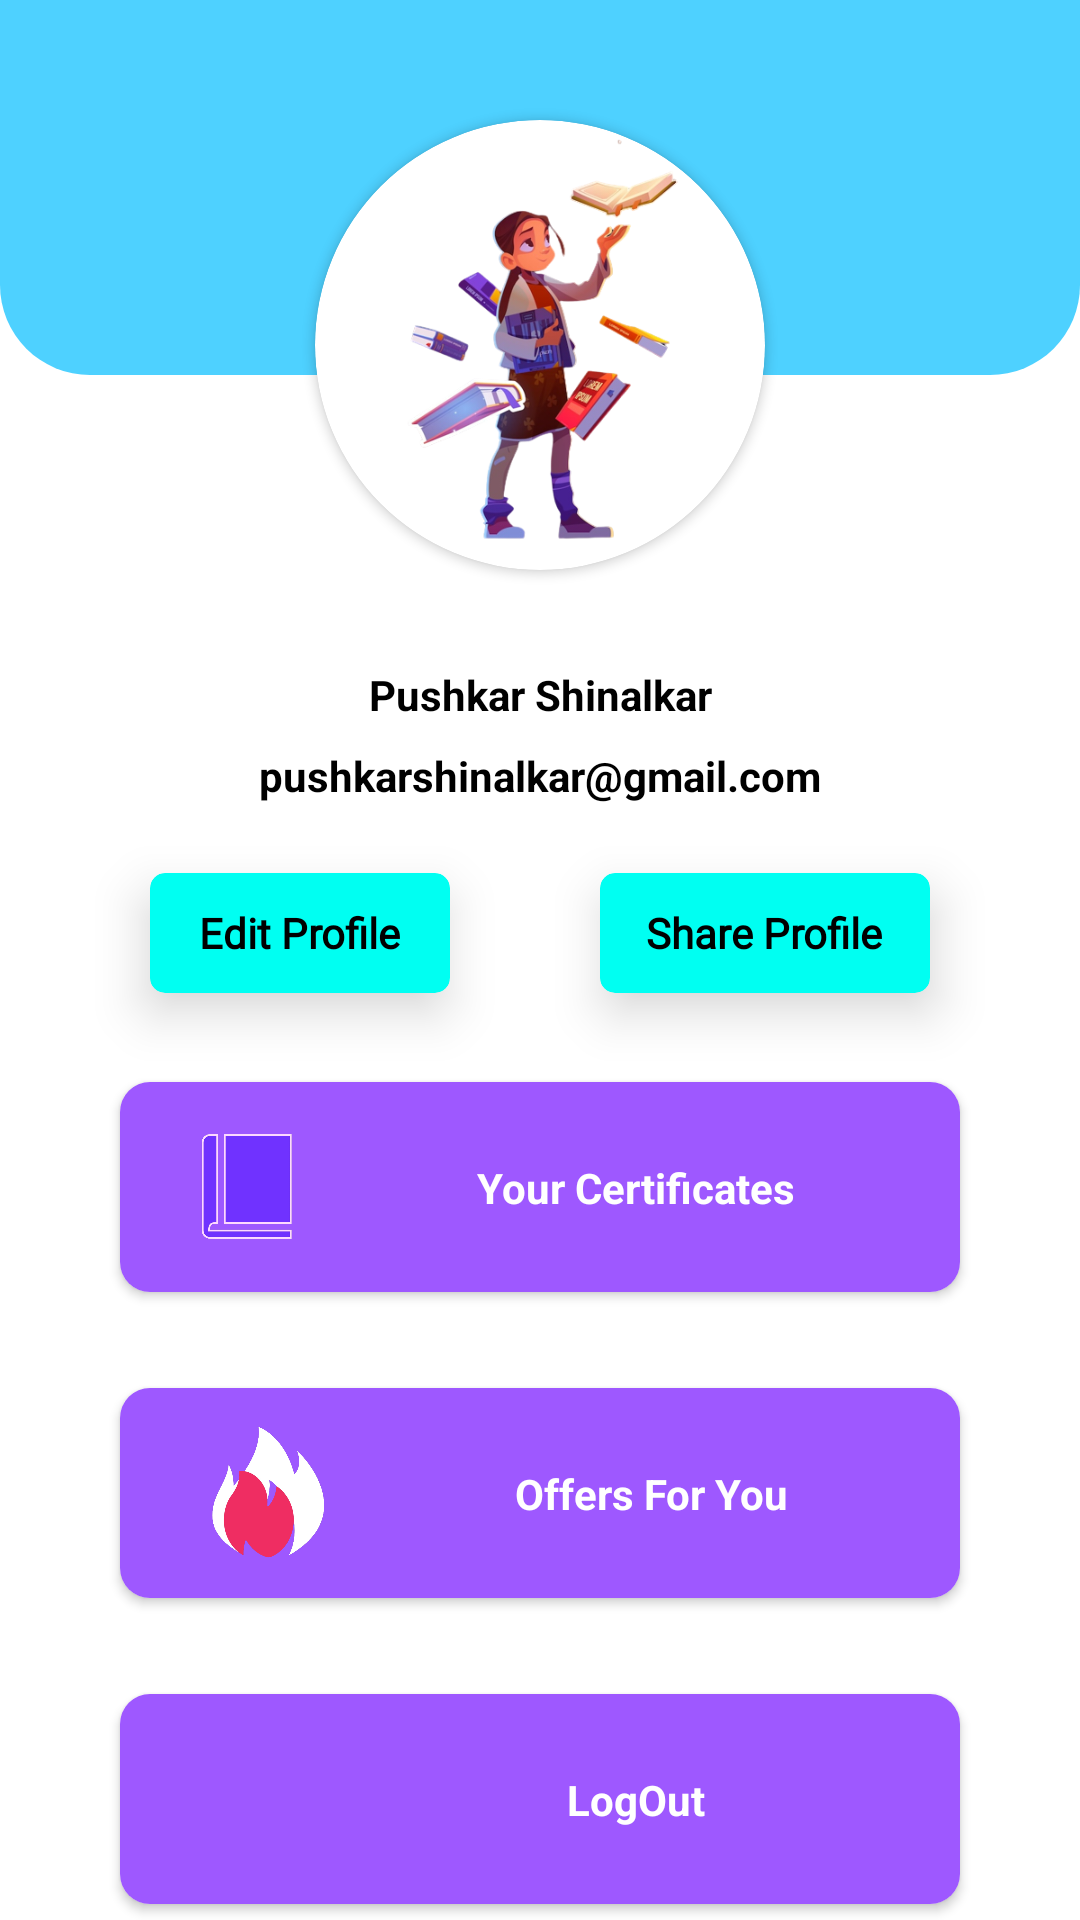

Icons on this 1080×1920 Android screen, each with the point to tap as [x,y]:
popular graphic: [268,1492]
